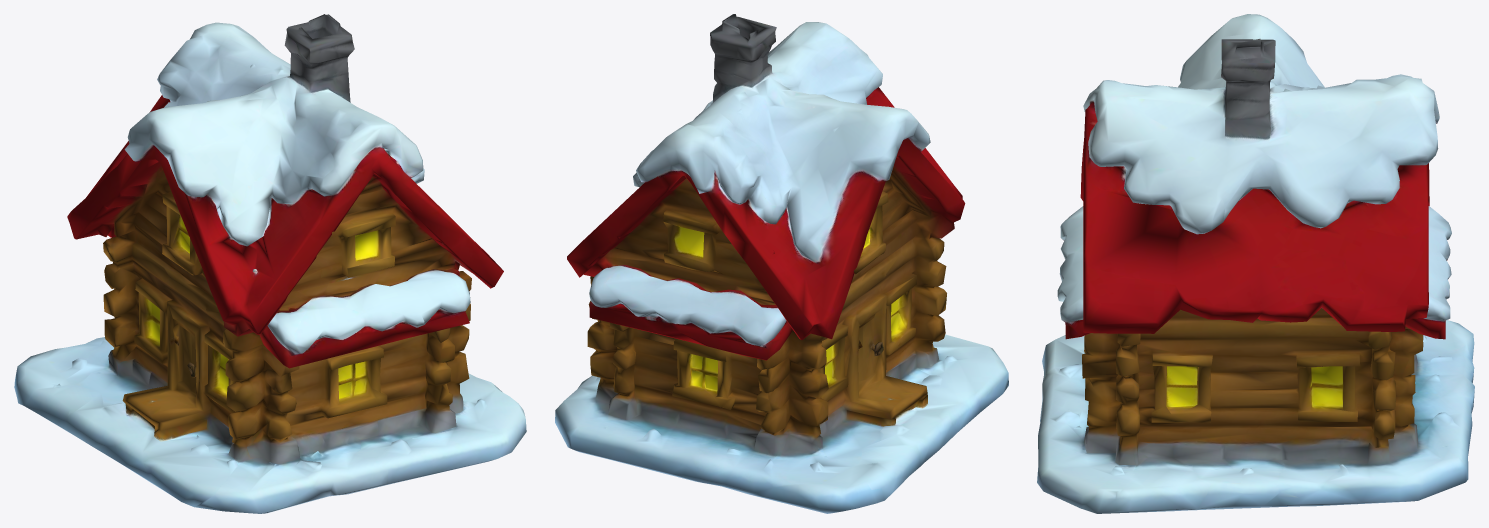
The model's file is lapland_cabin.glb.
3 views of the same model, side by side, from view 1: azimuth 30°, elevation 25°; view 2: azimuth 150°, elevation 25°; view 3: azimuth 270°, elevation 25° (orthographic). The views are drawn at different scales.
Visible parts, largest first — view 1: tripo_node_385f581a-23df-4d75-936d-5e49b729e806; view 2: tripo_node_385f581a-23df-4d75-936d-5e49b729e806; view 3: tripo_node_385f581a-23df-4d75-936d-5e49b729e806.
Boxes of the visible parts, <box> form: tripo_node_385f581a-23df-4d75-936d-5e49b729e806: <box>14,14,526,513</box>; tripo_node_385f581a-23df-4d75-936d-5e49b729e806: <box>555,14,1008,513</box>; tripo_node_385f581a-23df-4d75-936d-5e49b729e806: <box>1037,14,1474,513</box>.
Size of the model in its own units: 0.977 by 0.9995 by 0.973.
1 material, 1 textured.
